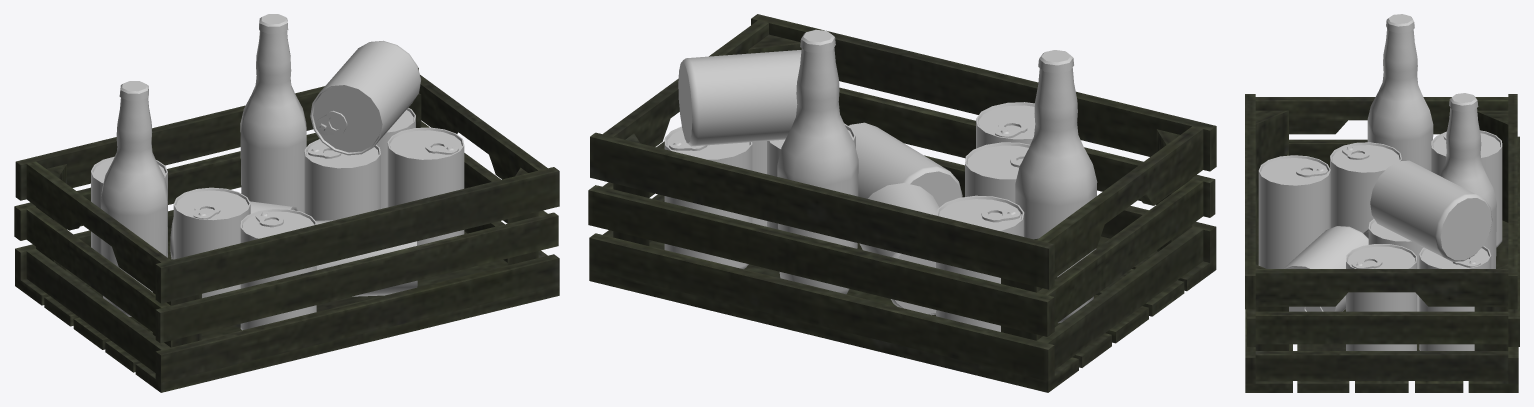
The model's file is supply_crate_1_3.fbx.
3 views of the same model, side by side, from view 1: azimuth 30°, elevation 25°; view 2: azimuth 150°, elevation 25°; view 3: azimuth 270°, elevation 25° (orthographic). The views are drawn at different scales.
Visible parts, largest first — view 1: supply_crate_1_3; view 2: supply_crate_1_3; view 3: supply_crate_1_3.
Boxes of the visible parts, x1,y1,x2,y2 form: supply_crate_1_3: [14, 14, 559, 392]; supply_crate_1_3: [588, 14, 1216, 392]; supply_crate_1_3: [1245, 14, 1519, 392].
Bounding box in the file's own units: 0.668 × 0.3725 × 0.4262.
